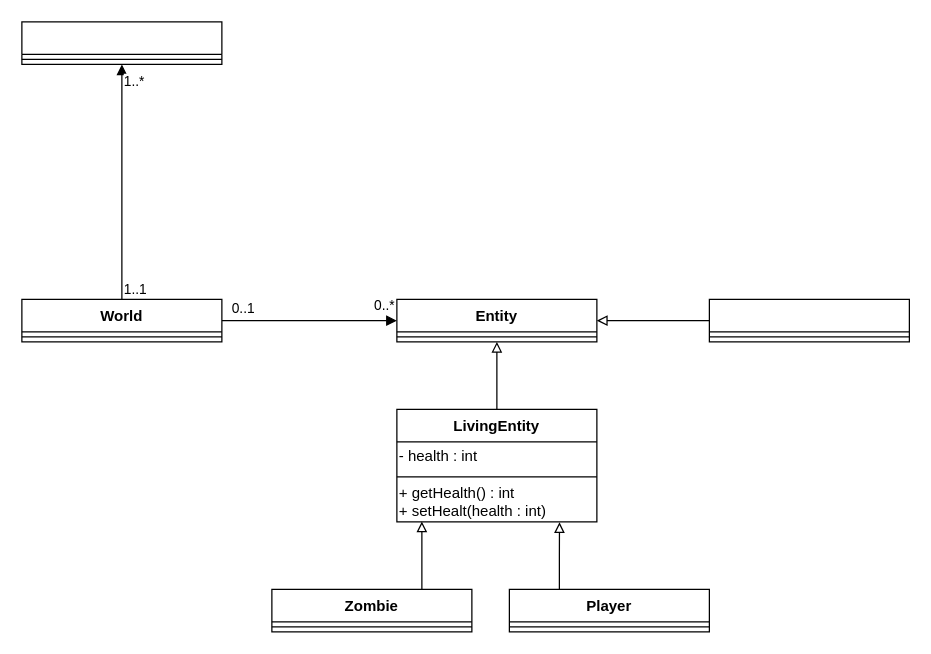
Some shapes in this 931 by 654 pixel diagram are drawn without their labels. Here are the shapes that lost their labels. From the top down, the centre of each, then its label:
At (121,42): "SpawnPoint".
At (808,320): "Projectile".
